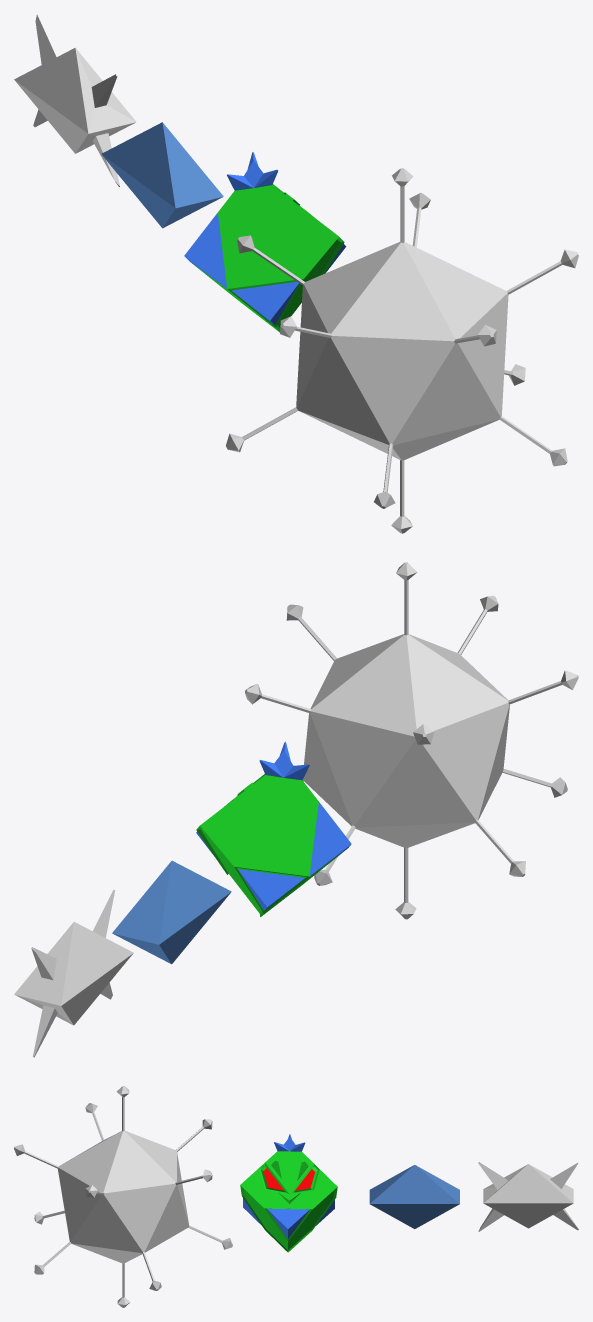
3 views of the same model, one above another, from view 1: azimuth 30°, elevation 25°; view 2: azimuth 150°, elevation 25°; view 3: azimuth 270°, elevation 25° (orthographic). The views are drawn at different scales.
Parts seen in each view (by area): view 1: GD_mesh, Cube.001, GD_mesh.002, GD_mesh.001; view 2: GD_mesh, Cube.001, GD_mesh.002, GD_mesh.001; view 3: GD_mesh, Cube.001, GD_mesh.002, GD_mesh.001.
Boxes of the visible parts, x1,y1,x2,y2 form: GD_mesh: [226, 168, 578, 533]; Cube.001: [184, 152, 346, 332]; GD_mesh.002: [14, 14, 136, 186]; GD_mesh.001: [101, 122, 223, 228]; GD_mesh: [236, 562, 578, 919]; Cube.001: [196, 741, 351, 916]; GD_mesh.002: [14, 889, 133, 1057]; GD_mesh.001: [112, 860, 231, 964]; GD_mesh: [14, 1086, 232, 1307]; Cube.001: [240, 1134, 337, 1252]; GD_mesh.002: [478, 1162, 578, 1231]; GD_mesh.001: [369, 1165, 459, 1228].
Size of the model in its own units: 555 by 648 by 1502.
3 materials, 1 textured.
